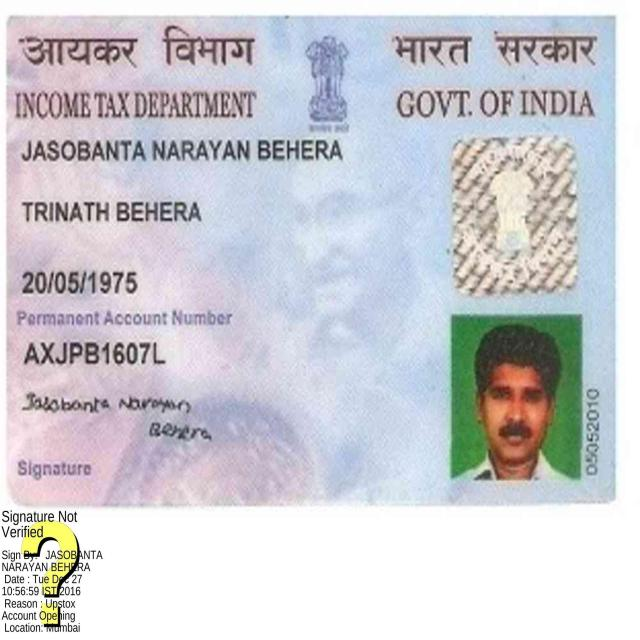pan_card: (8, 14, 615, 503)
